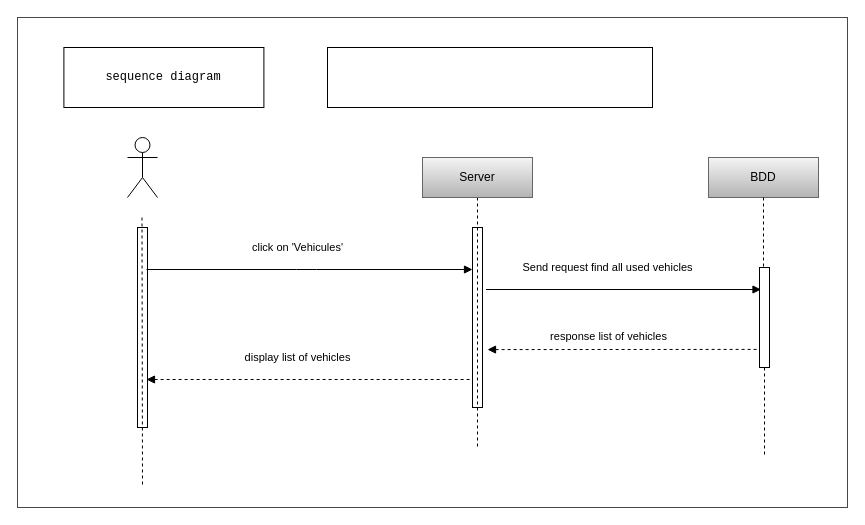
Some shapes in this 865 by 525 pixel diagram are drawn without their labels. Each missing label, with the centre of its shape:
"Discover the list of used vehicles" belongs at point (489, 77).
"Visitor" belongs at point (142, 167).
